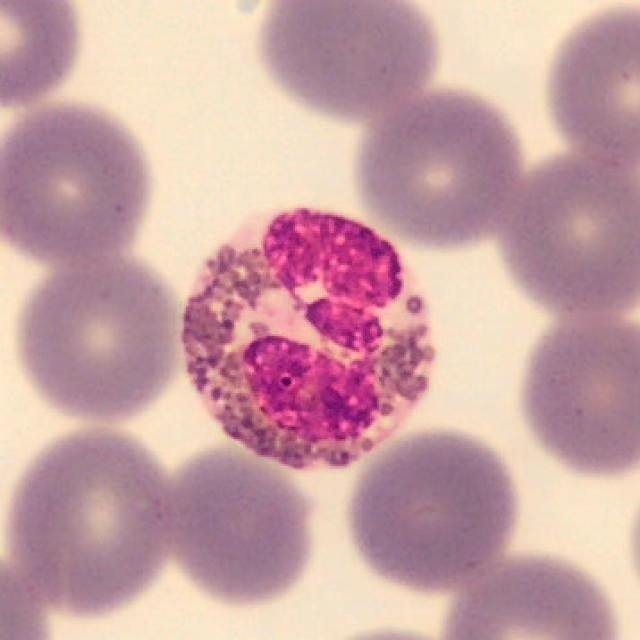Eosinofilo: (182, 208, 433, 473)
